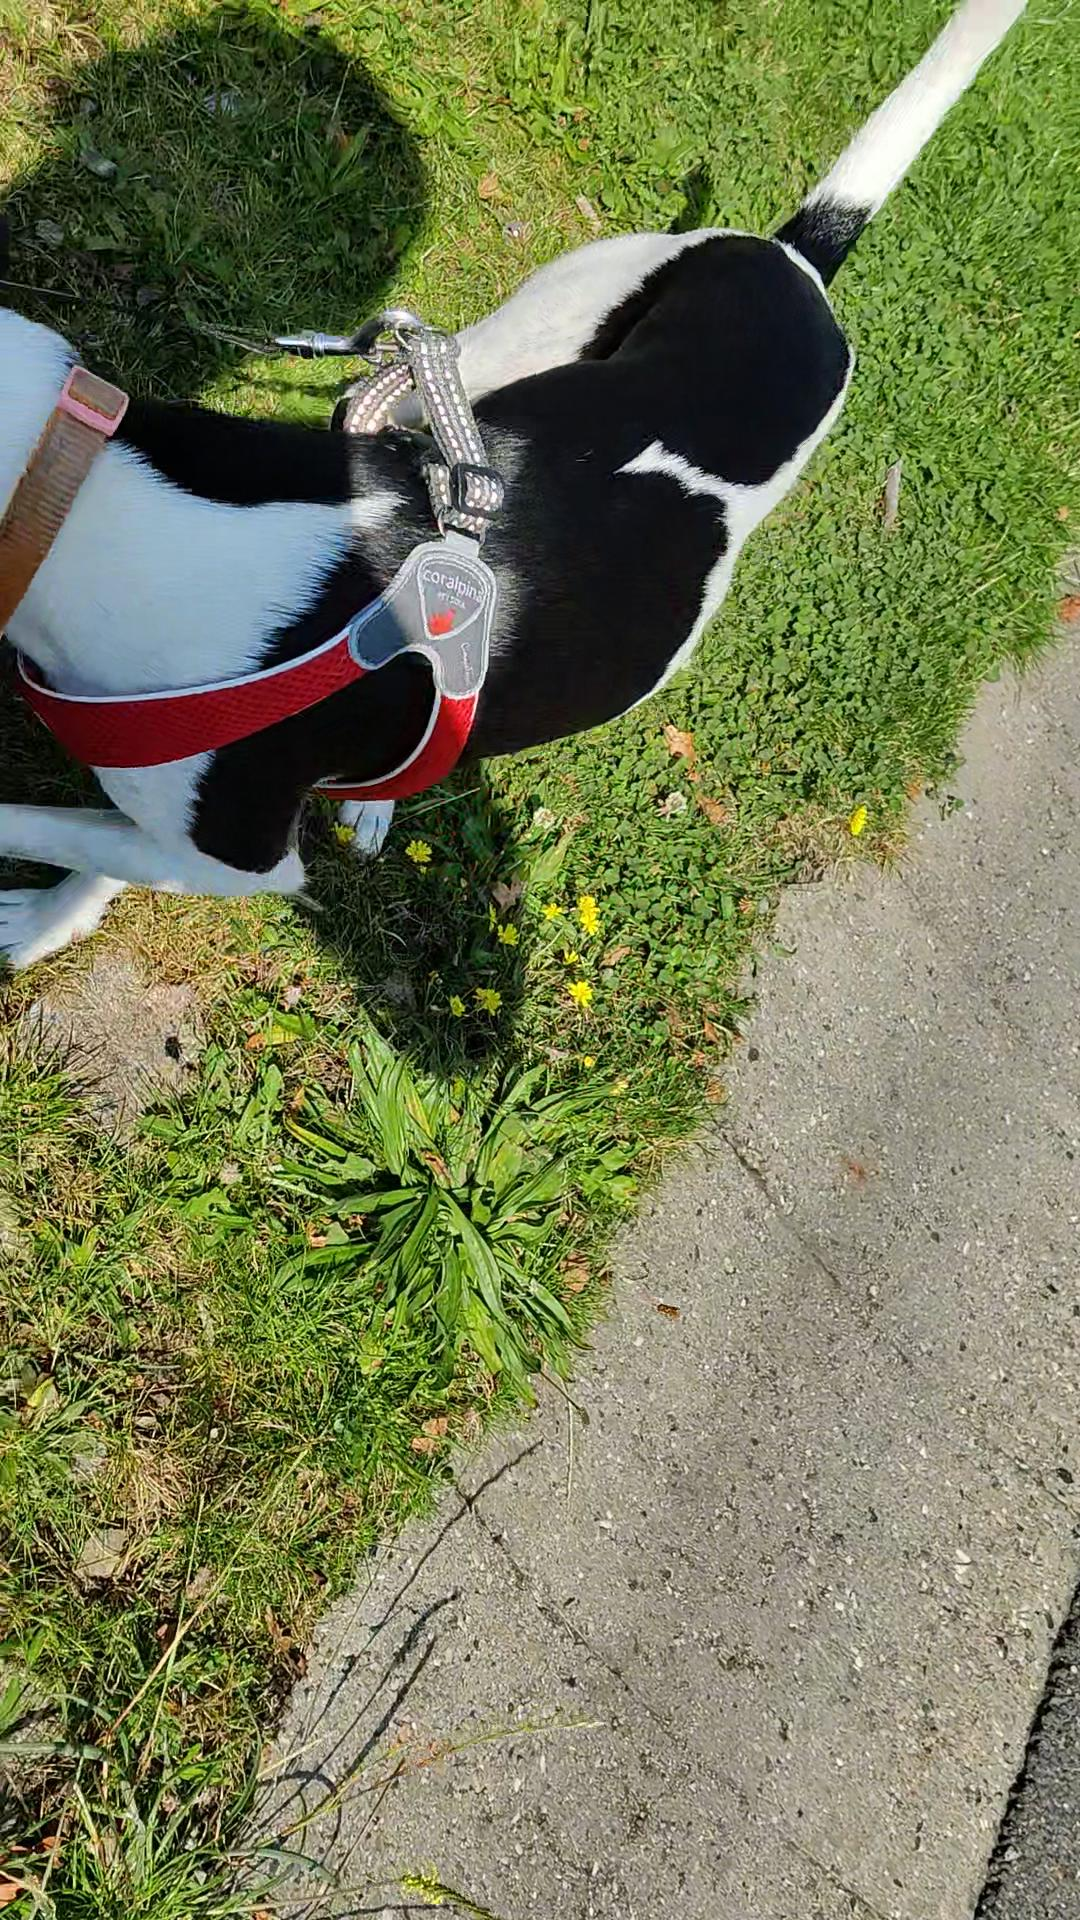Dog: (0, 0, 1029, 978)
